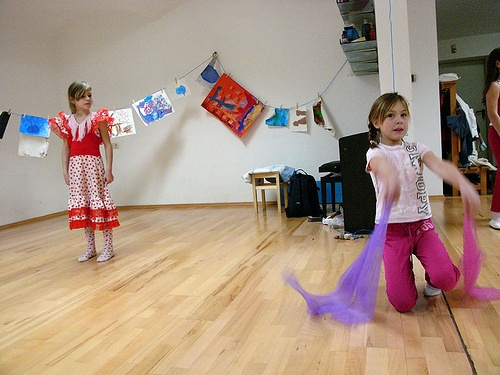person: (367, 92, 461, 315), (51, 80, 122, 266)
person/foot: (424, 282, 443, 297), (78, 249, 96, 263), (98, 250, 114, 263)
person/hand: (382, 179, 401, 200), (104, 170, 115, 184), (63, 172, 70, 186)
person/head: (374, 96, 413, 143), (69, 82, 94, 112)
